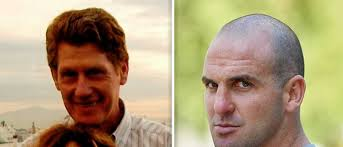No-Glasses: (195, 70, 268, 94), (52, 62, 117, 84)
